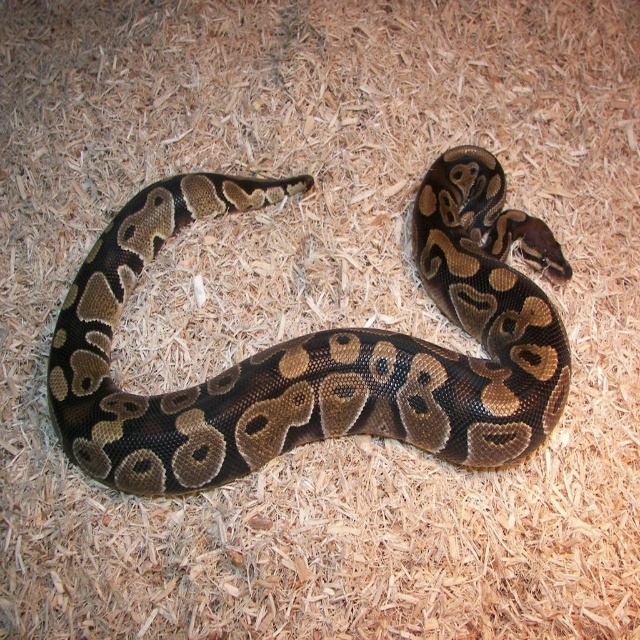Snake: (46, 140, 574, 497)
